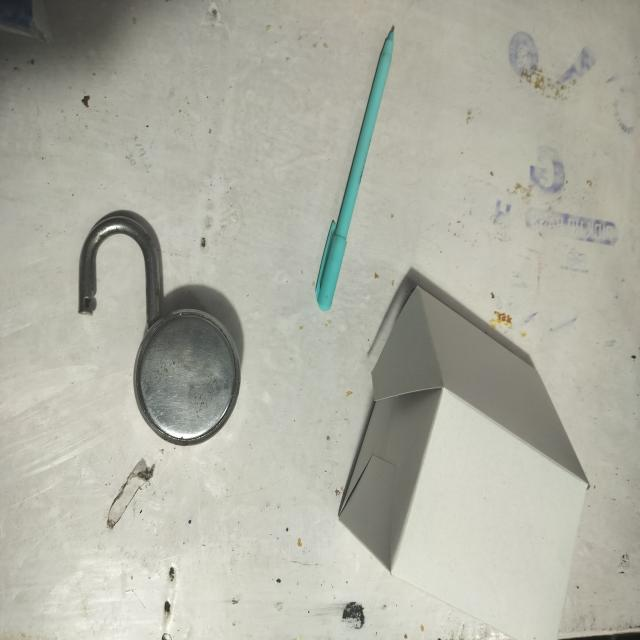metal: (55, 194, 275, 473)
paper: (404, 276, 602, 634)
plastic: (312, 10, 397, 326)
